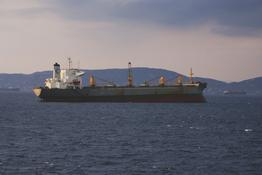Cargoship: (31, 49, 209, 105)
